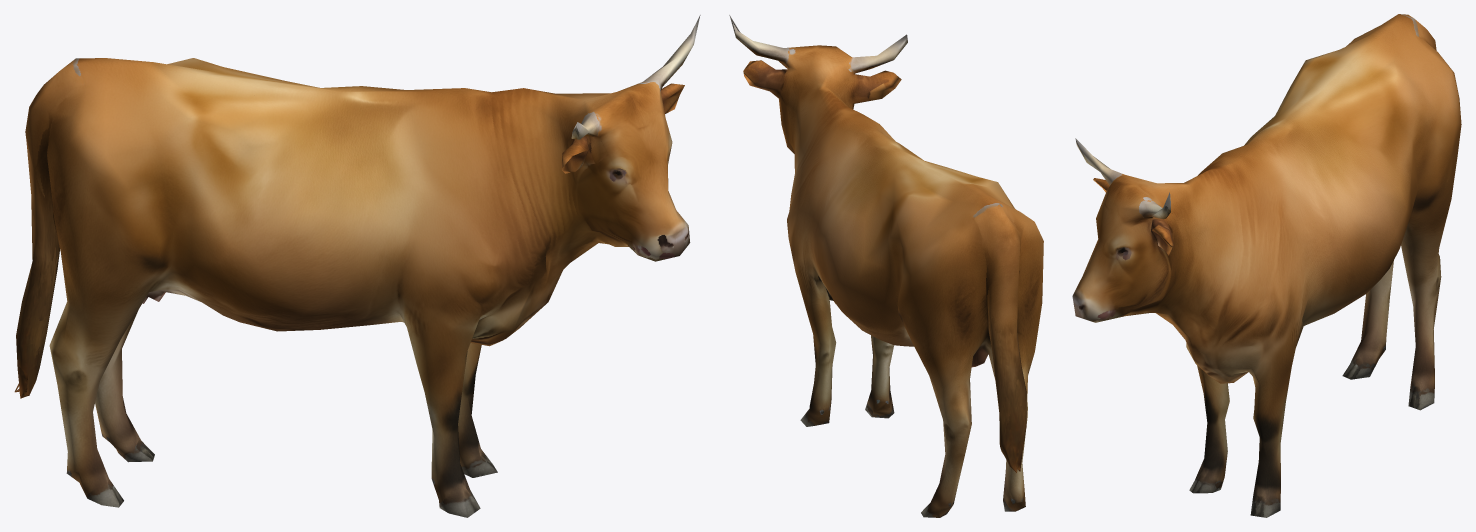
The model's file is cow_warm_single_1500.glb.
The picture shows the model from 3 angles, left to right: view 1: azimuth 30°, elevation 25°; view 2: azimuth 150°, elevation 25°; view 3: azimuth 270°, elevation 25°; orthographic projection. The views are drawn at different scales.
Size of the model in its own units: 0.8929 by 0.7273 by 0.6563.
1 material, 1 textured.
